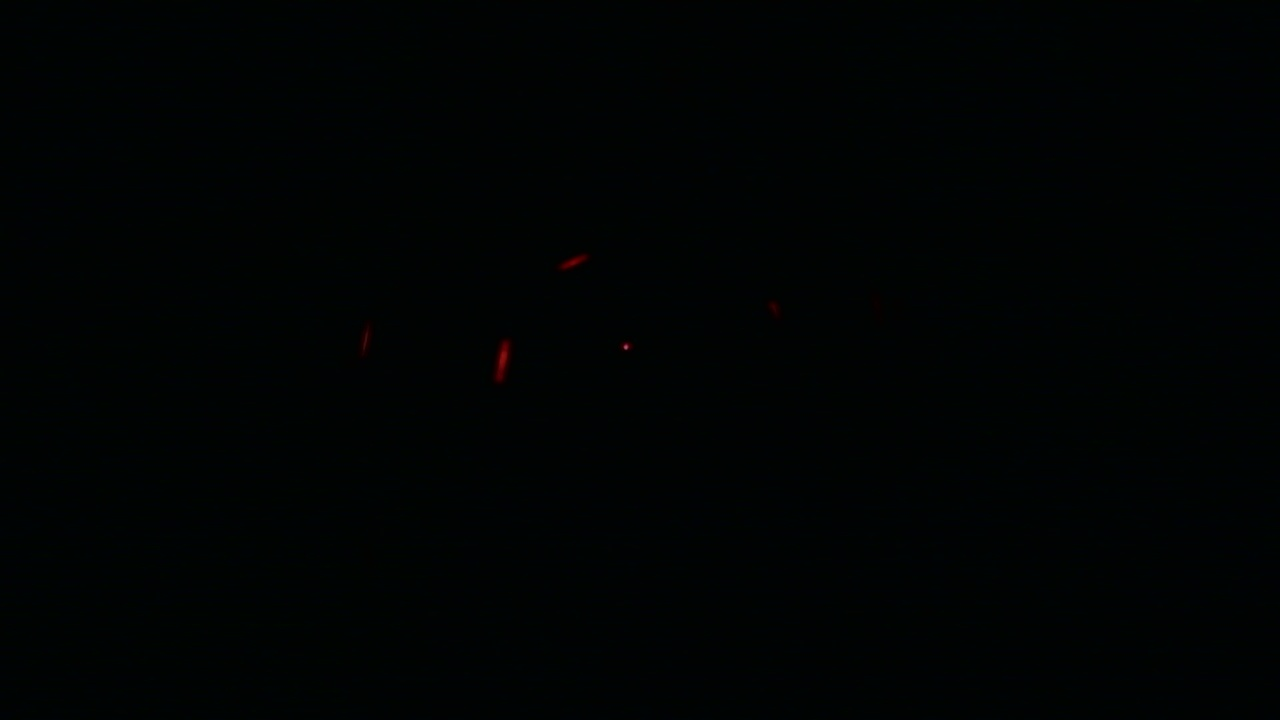lamp: (493, 321, 510, 389)
pair2: (357, 321, 510, 388)
